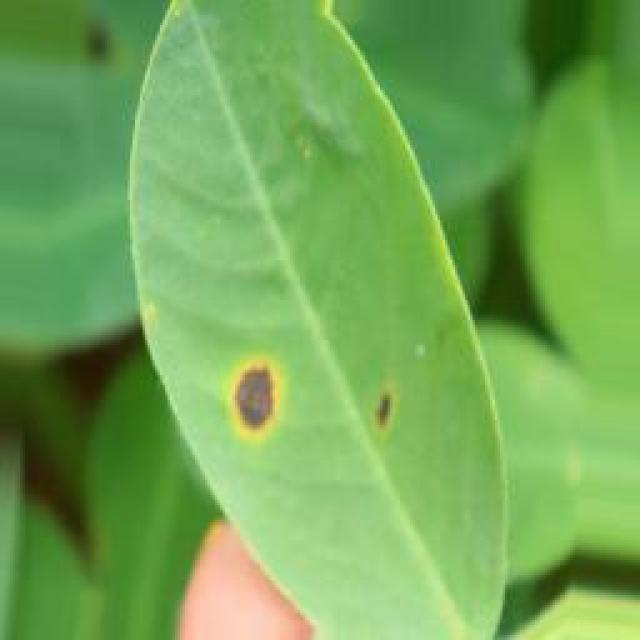Early_leaf_spot: (191, 325, 285, 444), (319, 355, 397, 455)
